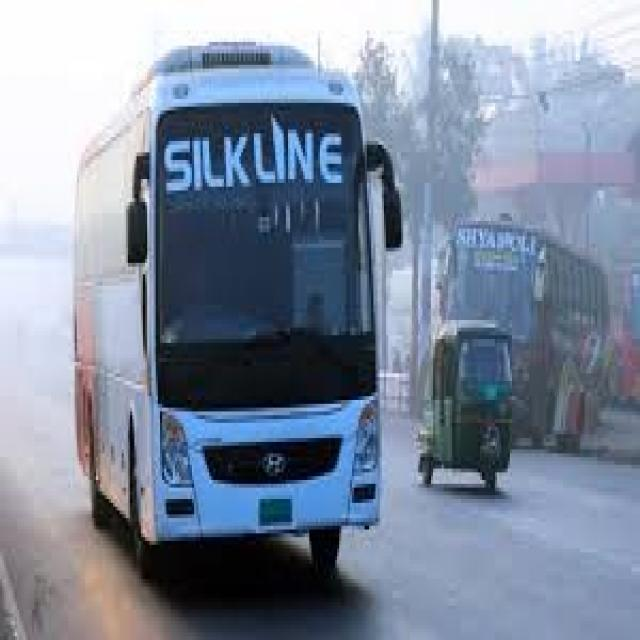bus: (62, 48, 385, 610), (438, 211, 607, 448)
